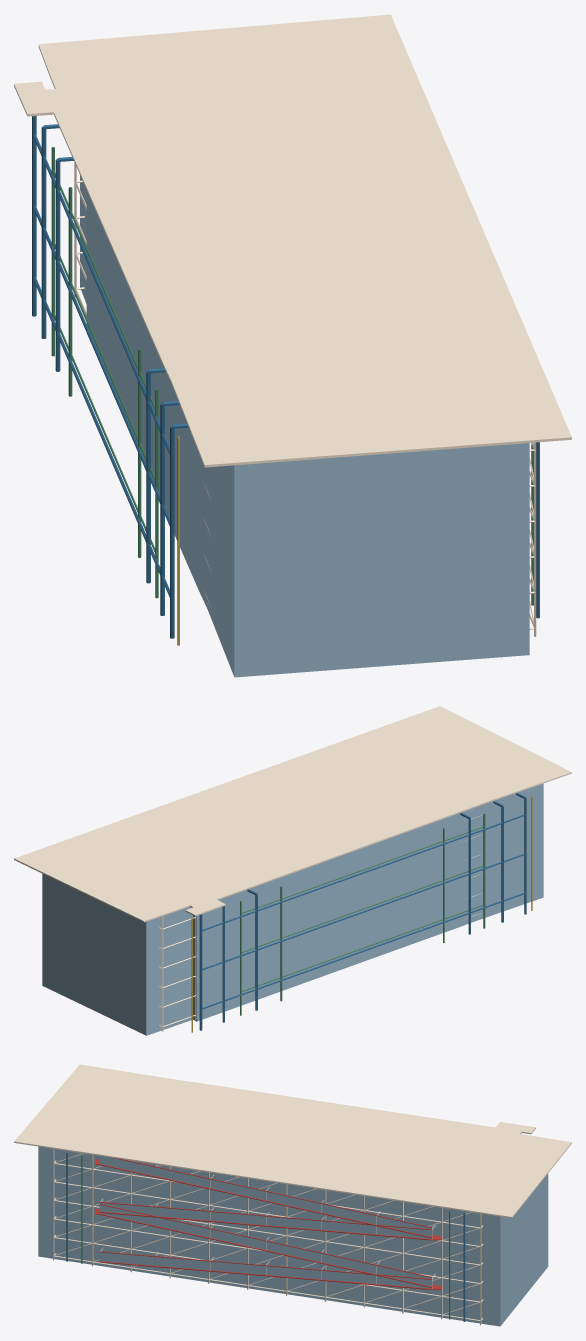
3 views of the same model, one above another, from view 1: azimuth 30°, elevation 25°; view 2: azimuth 150°, elevation 25°; view 3: azimuth 270°, elevation 25° (orthographic). The views are drawn at different scales.
Parts seen in each view (by area): view 1: trim, glass, stone, metal; view 2: glass, trim, stone, metal, roof; view 3: glass, trim, recess, stone, metal.
Part boxes in pixels (left/top/right/bottom): trim: left=14, top=14, right=571, bottom=636; glass: left=80, top=175, right=529, bottom=677; stone: left=32, top=116, right=539, bottom=638; metal: left=51, top=147, right=533, bottom=605; glass: left=42, top=783, right=543, bottom=1035; trim: left=14, top=706, right=571, bottom=1031; stone: left=199, top=793, right=526, bottom=1030; metal: left=240, top=813, right=485, bottom=1015; roof: left=191, top=796, right=532, bottom=1032; glass: left=38, top=1146, right=548, bottom=1326; trim: left=14, top=1064, right=571, bottom=1325; recess: left=95, top=1157, right=440, bottom=1289; stone: left=66, top=1152, right=465, bottom=1321; metal: left=81, top=1155, right=450, bottom=1319.
Size of the model in its own units: 115 by 42 by 177.
